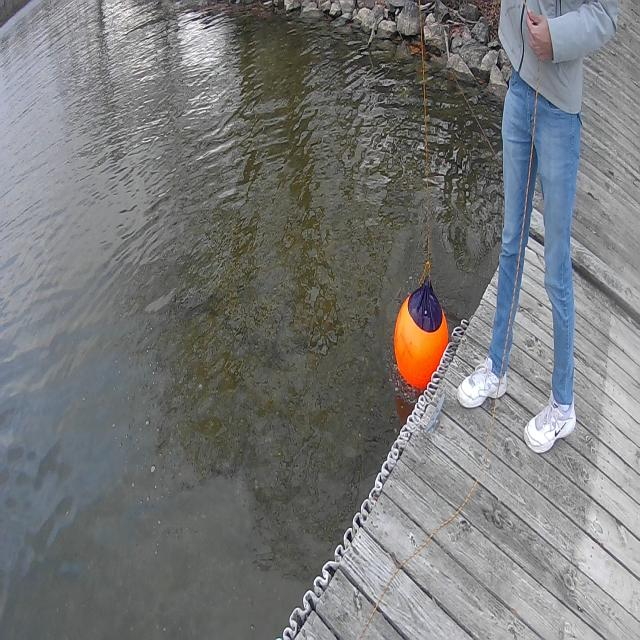Buoy: (393, 270, 452, 394)
